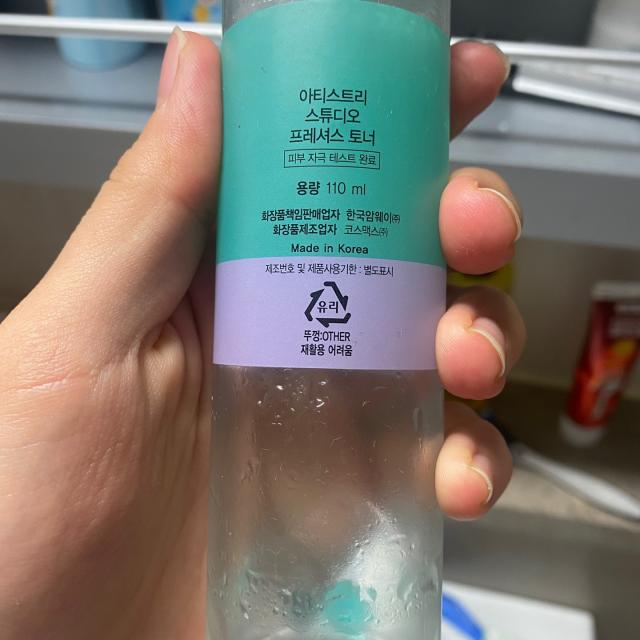Glass: (302, 278, 354, 329)
